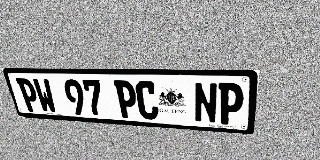7: (81, 80, 106, 117)
9: (62, 79, 88, 115)
C: (135, 81, 159, 120)
N: (193, 82, 218, 124)
P: (218, 83, 244, 125), (113, 80, 139, 119), (15, 78, 42, 112)
W: (32, 79, 58, 113)
